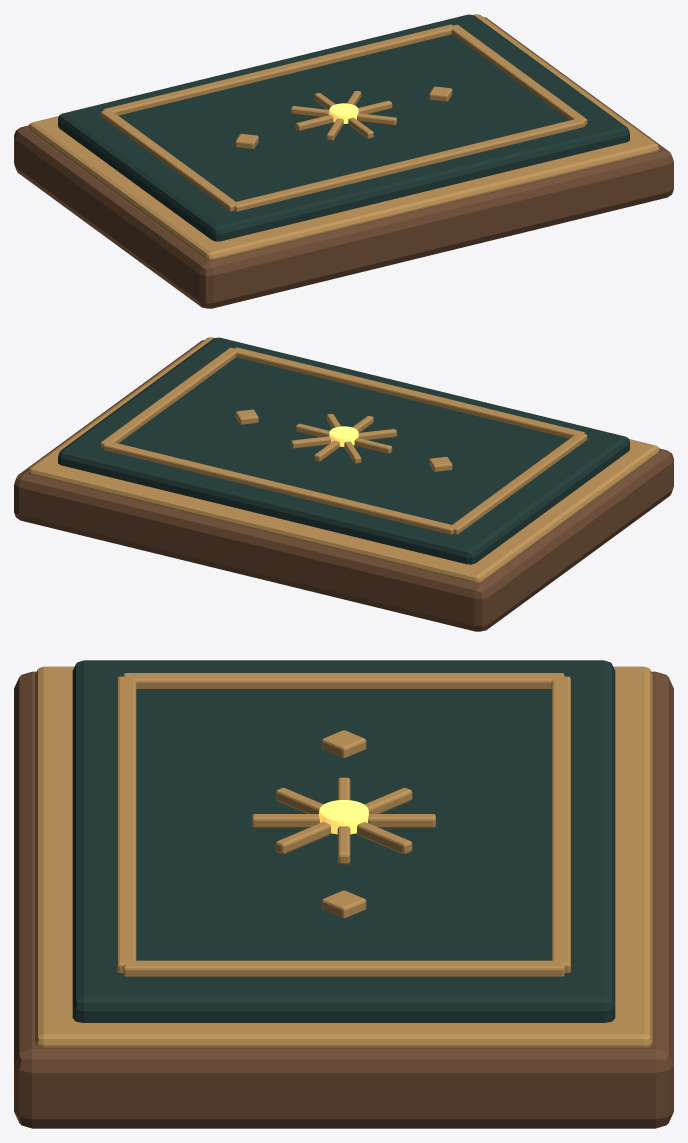
The model's file is pandora_box_lid.glb.
3 renders of one model, top to bottom at view 1: azimuth 30°, elevation 25°; view 2: azimuth 150°, elevation 25°; view 3: azimuth 270°, elevation 25°, orthographic. The views are drawn at different scales.
Parts seen in each view (by area): view 1: PandoraBoxLid; view 2: PandoraBoxLid; view 3: PandoraBoxLid.
Part boxes in pixels (left/top/right/bottom): PandoraBoxLid: left=14, top=14, right=673, bottom=308; PandoraBoxLid: left=14, top=337, right=673, bottom=631; PandoraBoxLid: left=14, top=660, right=673, bottom=1128.
Size of the model in its own units: 0.67 by 0.109 by 0.477.
